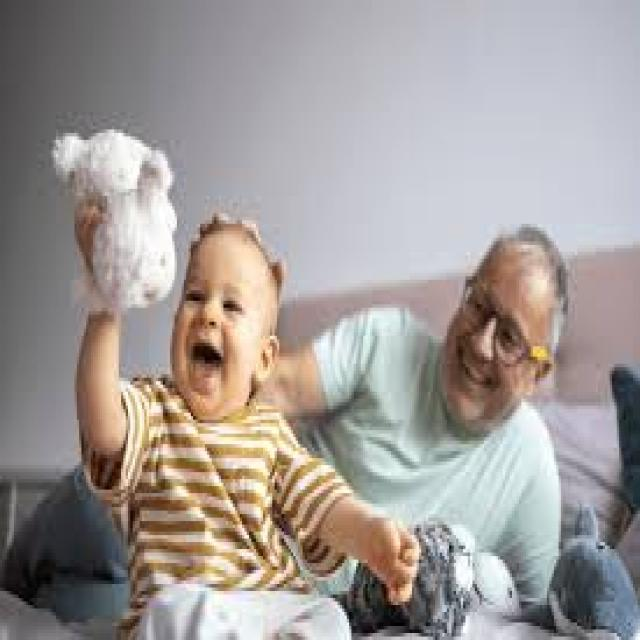soft-toy: (54, 129, 179, 312)
